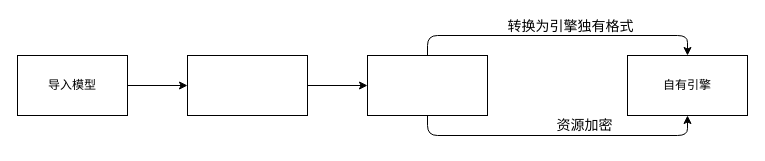
Some shapes in this 765 by 161 pixel diagram are drawn without their labels. Each missing label, with the centre of its shape:
"导出" belongs at pixel 427 85.
"烘焙" belongs at pixel 247 85.
